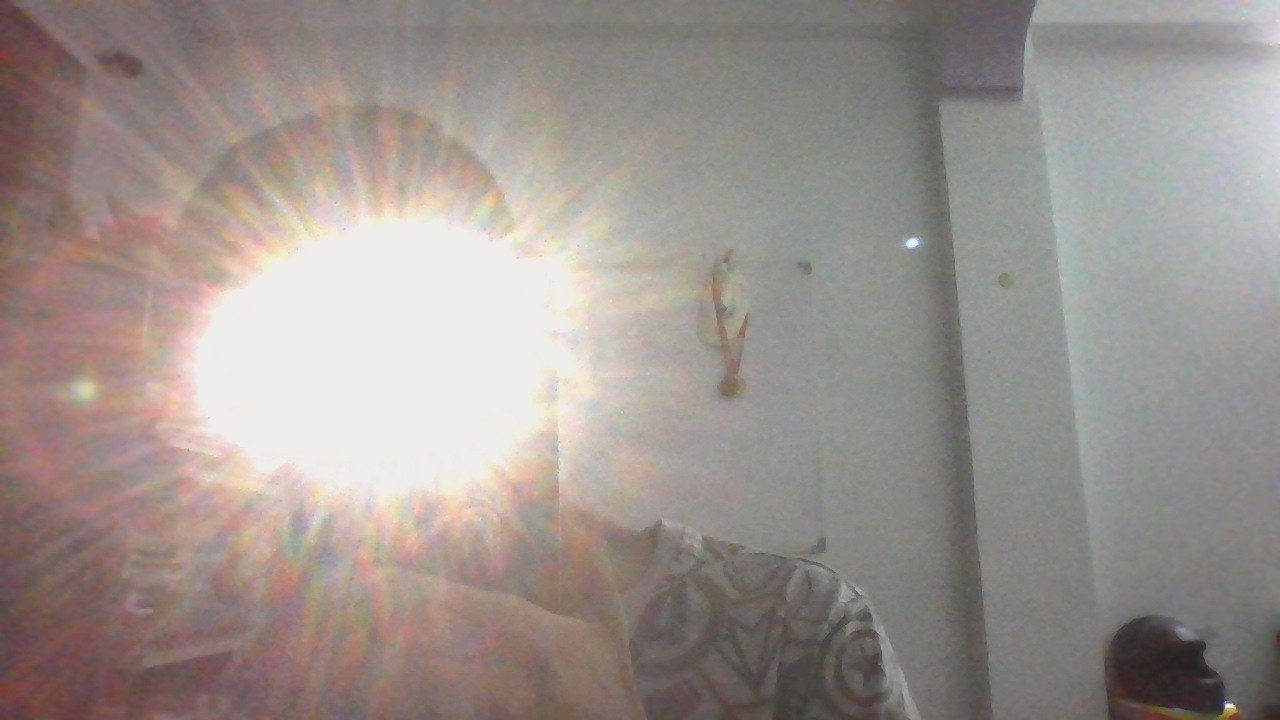Glare: (189, 209, 570, 499)
